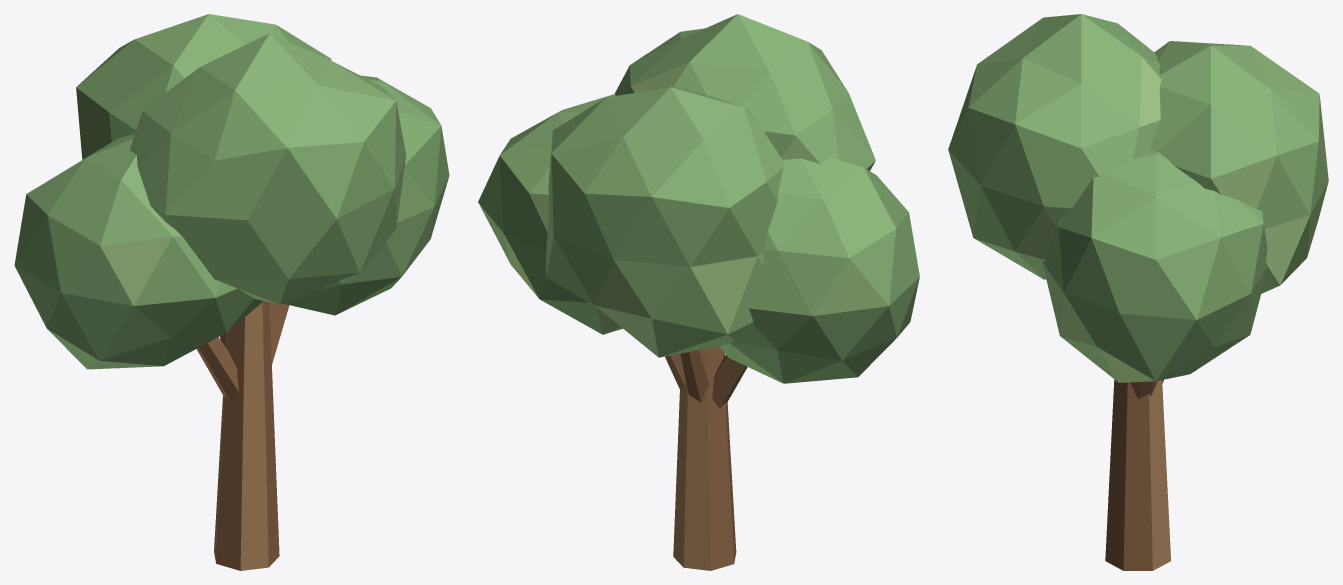
Rendered from tree-oak.glb.
3 views of the same model, side by side, from view 1: azimuth 30°, elevation 25°; view 2: azimuth 150°, elevation 25°; view 3: azimuth 270°, elevation 25° (orthographic). The views are drawn at different scales.
Parts seen in each view (by area): view 1: tree-oak; view 2: tree-oak; view 3: tree-oak.
Part boxes in pixels (x1=…): tree-oak: x1=14, y1=14, x2=449, y2=570; tree-oak: x1=478, y1=14, x2=919, y2=570; tree-oak: x1=948, y1=14, x2=1328, y2=570.
Bounding box in the file's own units: 2.7 × 3.36 × 2.14.
